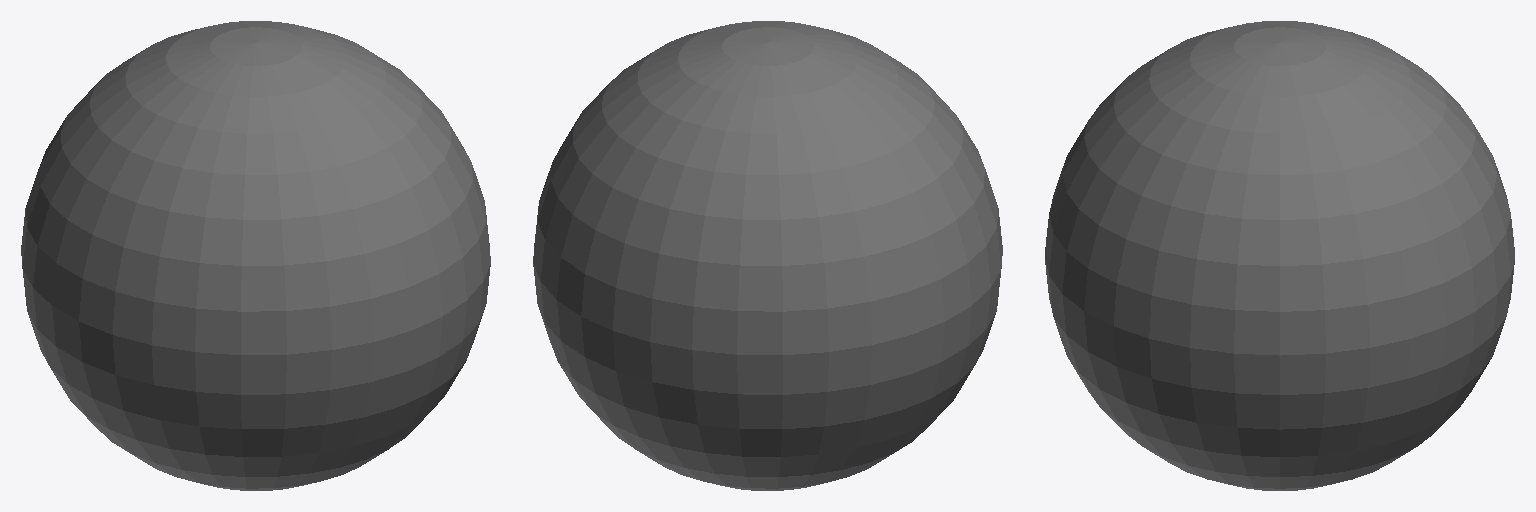
File: earth.obj
3 views of the same model, side by side, from view 1: azimuth 30°, elevation 25°; view 2: azimuth 150°, elevation 25°; view 3: azimuth 270°, elevation 25° (orthographic).
Visible parts, largest first — view 1: Sphere001; view 2: Sphere001; view 3: Sphere001.
Part boxes in pixels (bbox=[...]): Sphere001: bbox=[21, 21, 490, 490]; Sphere001: bbox=[533, 21, 1002, 490]; Sphere001: bbox=[1045, 21, 1514, 490].
Size of the model in its own units: 19.68 by 19.68 by 19.68.